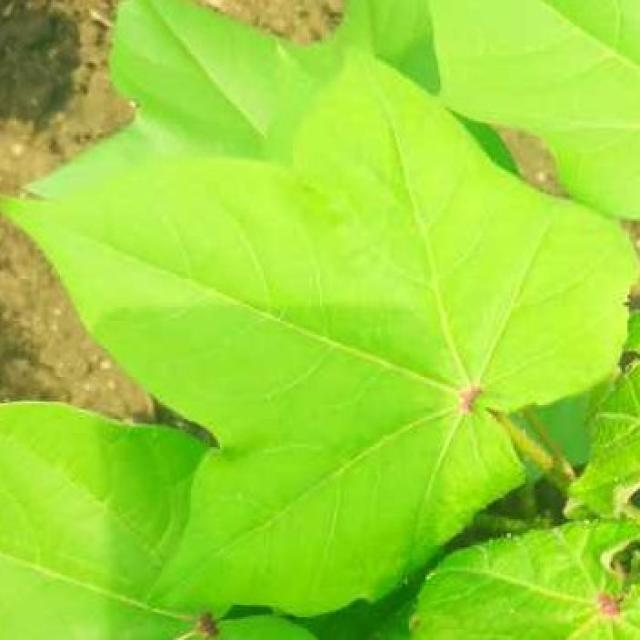Healthy Leaf: (185, 71, 530, 598)
